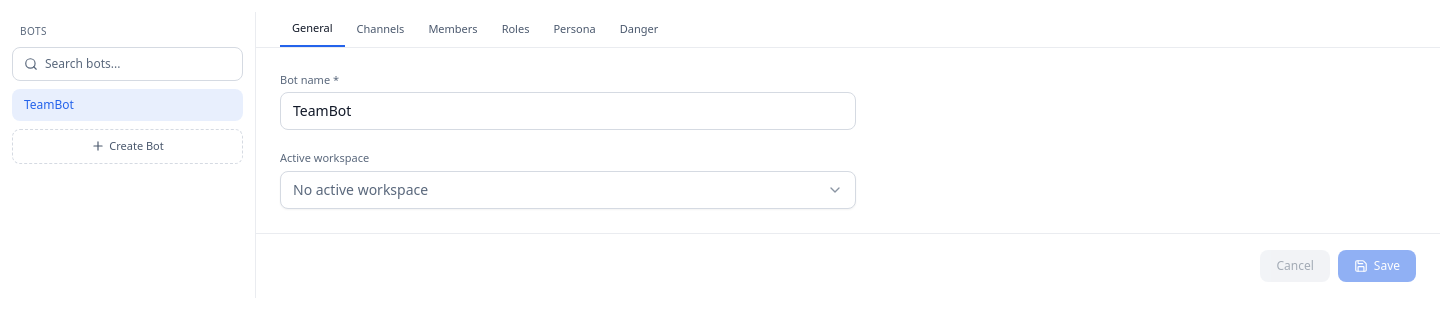
Test: BotManagementPage › reverts edits and disables Save/Cancel footer when Cancel is clicked
The image size is (1440, 315).
Replace the text in the field with placeholder "My Bot" with "Draft Name". click: (568, 111)
box: 280,92 -> 856,130
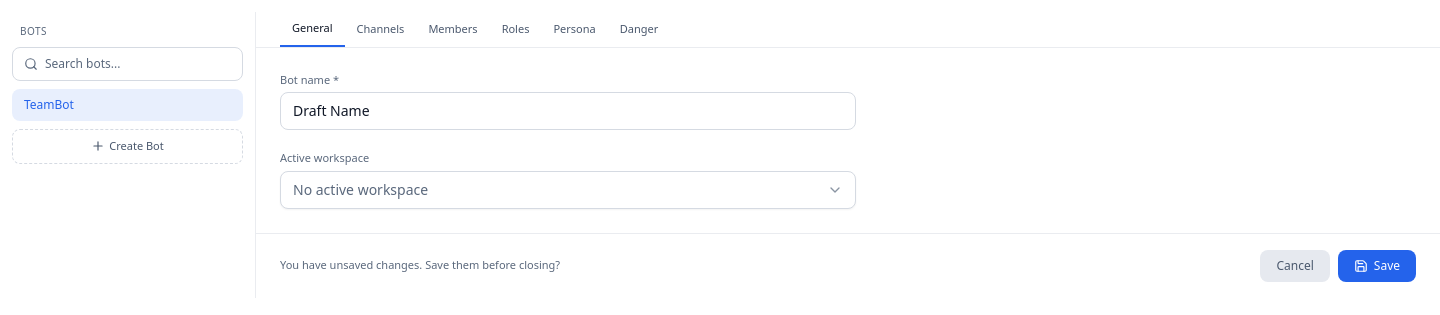
Check: the button "Save" is enabled, box 1338,250 -> 1416,282
Click the button "Cancel". click: (1295, 266)
box: 1260,250 -> 1330,282
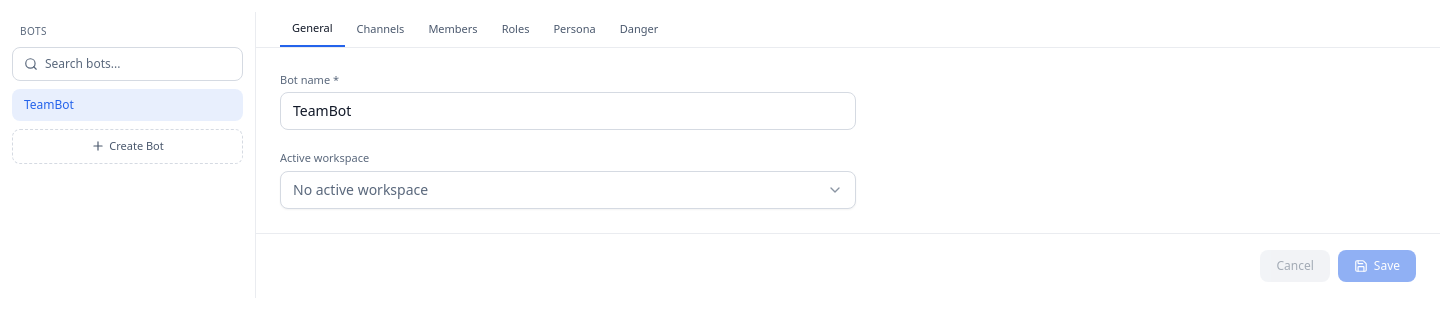
Check: the field with placeholder "My Bot" holds "TeamBot", box 280,92 -> 856,130
Check: the button "Save" is disabled, box 1338,250 -> 1416,282
Check: the button "Cancel" is disabled, box 1260,250 -> 1330,282
